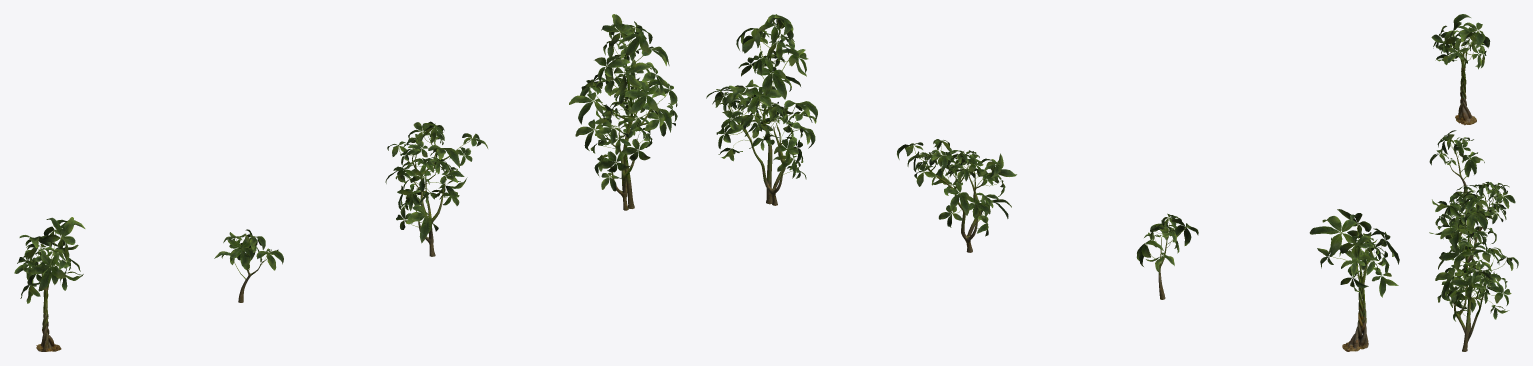
Rendered from ph_pachira_aquatica_01.glb.
3 renders of one model, left to right at view 1: azimuth 30°, elevation 25°; view 2: azimuth 150°, elevation 25°; view 3: azimuth 270°, elevation 25°, orthographic. The views are drawn at different scales.
Visible parts, largest first — view 1: pachira_aquatica_01_leaves_d, pachira_aquatica_01_leaves_c, pachira_aquatica_01_leaves_a, pachira_aquatica_01_leaves_b, pachira_aquatica_01_bark_d, pachira_aquatica_01_bark_c, pachira_aquatica_01_bark_a; view 2: pachira_aquatica_01_leaves_d, pachira_aquatica_01_leaves_c, pachira_aquatica_01_leaves_a, pachira_aquatica_01_leaves_b, pachira_aquatica_01_bark_d, pachira_aquatica_01_bark_a, pachira_aquatica_01_bark_c; view 3: pachira_aquatica_01_leaves_d, pachira_aquatica_01_leaves_c, pachira_aquatica_01_leaves_a, pachira_aquatica_01_leaves_b, pachira_aquatica_01_bark_d, pachira_aquatica_01_bark_a, pachira_aquatica_01_bark_c, pachira_aquatica_01_bark_b.
Boxes of the visible parts, left/top/right/bottom form: pachira_aquatica_01_leaves_d: left=569, top=14, right=677, bottom=191; pachira_aquatica_01_leaves_c: left=385, top=121, right=487, bottom=243; pachira_aquatica_01_leaves_a: left=14, top=217, right=85, bottom=303; pachira_aquatica_01_leaves_b: left=214, top=229, right=283, bottom=279; pachira_aquatica_01_bark_d: left=595, top=44, right=652, bottom=210; pachira_aquatica_01_bark_c: left=409, top=137, right=457, bottom=256; pachira_aquatica_01_bark_a: left=36, top=265, right=61, bottom=351; pachira_aquatica_01_leaves_d: left=706, top=14, right=817, bottom=179; pachira_aquatica_01_leaves_c: left=897, top=139, right=1016, bottom=236; pachira_aquatica_01_leaves_a: left=1309, top=209, right=1399, bottom=297; pachira_aquatica_01_leaves_b: left=1136, top=213, right=1198, bottom=274; pachira_aquatica_01_bark_d: left=728, top=43, right=793, bottom=205; pachira_aquatica_01_bark_a: left=1342, top=259, right=1368, bottom=351; pachira_aquatica_01_bark_c: left=923, top=159, right=989, bottom=252; pachira_aquatica_01_leaves_d: left=1429, top=190, right=1518, bottom=321; pachira_aquatica_01_leaves_c: left=1432, top=181, right=1515, bottom=244; pachira_aquatica_01_leaves_a: left=1431, top=14, right=1490, bottom=69; pachira_aquatica_01_leaves_b: left=1429, top=130, right=1484, bottom=179; pachira_aquatica_01_bark_d: left=1454, top=219, right=1492, bottom=351; pachira_aquatica_01_bark_a: left=1455, top=50, right=1476, bottom=125; pachira_aquatica_01_bark_c: left=1453, top=190, right=1497, bottom=268; pachira_aquatica_01_bark_b: left=1447, top=149, right=1467, bottom=195.
Size of the model in its own units: 6.87 by 1.9 by 0.997.
2 materials, 2 textured.
